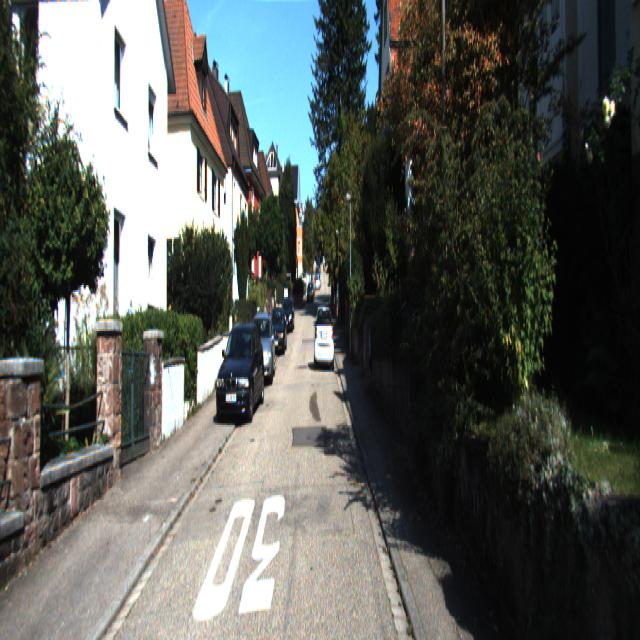Car: (214, 319, 266, 423), (248, 313, 277, 390), (314, 300, 334, 369), (267, 306, 288, 354), (282, 297, 296, 333)
